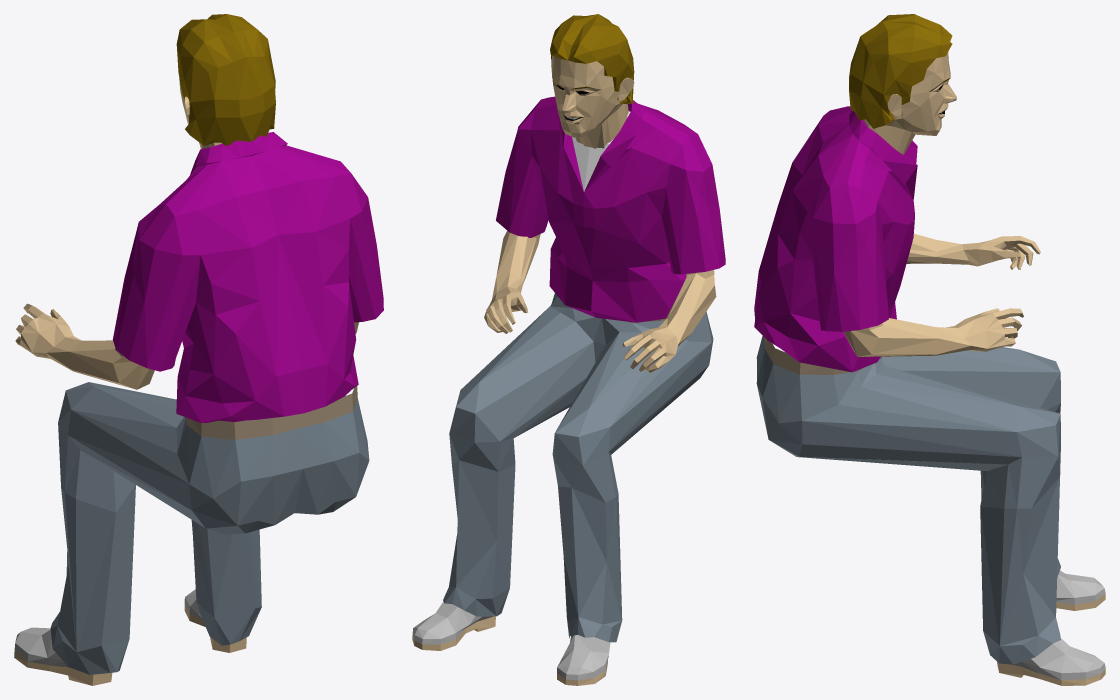
Rendered from man.glb.
The picture shows the model from 3 angles, left to right: view 1: azimuth 30°, elevation 25°; view 2: azimuth 150°, elevation 25°; view 3: azimuth 270°, elevation 25°; orthographic projection. The views are drawn at different scales.
Visible parts, largest first — view 1: Group2, Group1, Group3, Group4, Group7, Group6; view 2: Group1, Group2, Group3, Group4, Group5, Group6, Group7; view 3: Group1, Group2, Group3, Group5, Group4, Group6, Group7.
Boxes of the visible parts, bbox=[...] form: Group2: bbox=[112, 132, 383, 422]; Group1: bbox=[50, 382, 369, 674]; Group3: bbox=[176, 14, 275, 148]; Group4: bbox=[15, 303, 154, 389]; Group7: bbox=[14, 627, 112, 685]; Group6: bbox=[184, 589, 246, 652]; Group1: bbox=[443, 293, 713, 642]; Group2: bbox=[496, 96, 725, 322]; Group3: bbox=[550, 14, 634, 148]; Group4: bbox=[622, 270, 716, 372]; Group5: bbox=[484, 230, 540, 333]; Group6: bbox=[412, 601, 495, 650]; Group7: bbox=[557, 635, 610, 685]; Group1: bbox=[756, 336, 1060, 664]; Group2: bbox=[754, 106, 917, 372]; Group3: bbox=[849, 14, 956, 154]; Group5: bbox=[844, 308, 1023, 356]; Group4: bbox=[906, 233, 1040, 269]; Group6: bbox=[997, 638, 1105, 685]; Group7: bbox=[1056, 570, 1105, 610].
Size of the model in its own units: 24.16 by 56.7 by 29.17.
